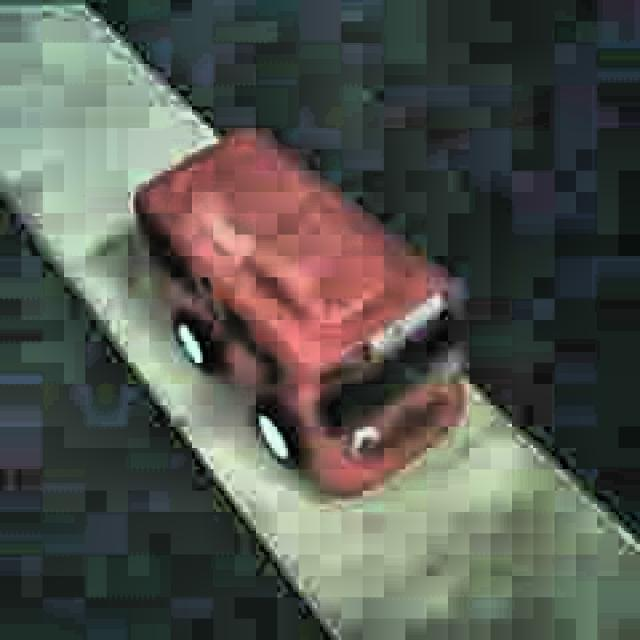bus: (133, 122, 466, 504)
